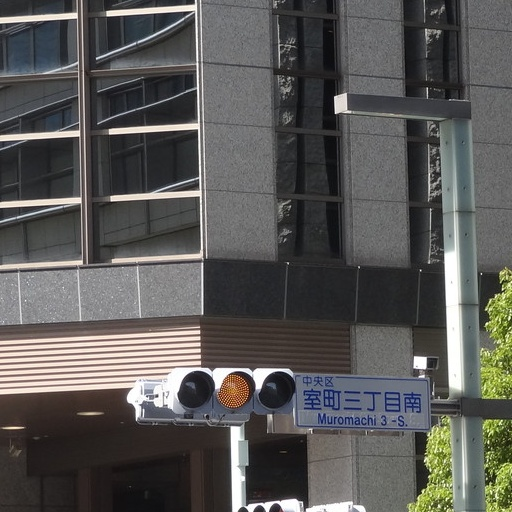Traffic_Signal_Yellow: (173, 363, 300, 411)
